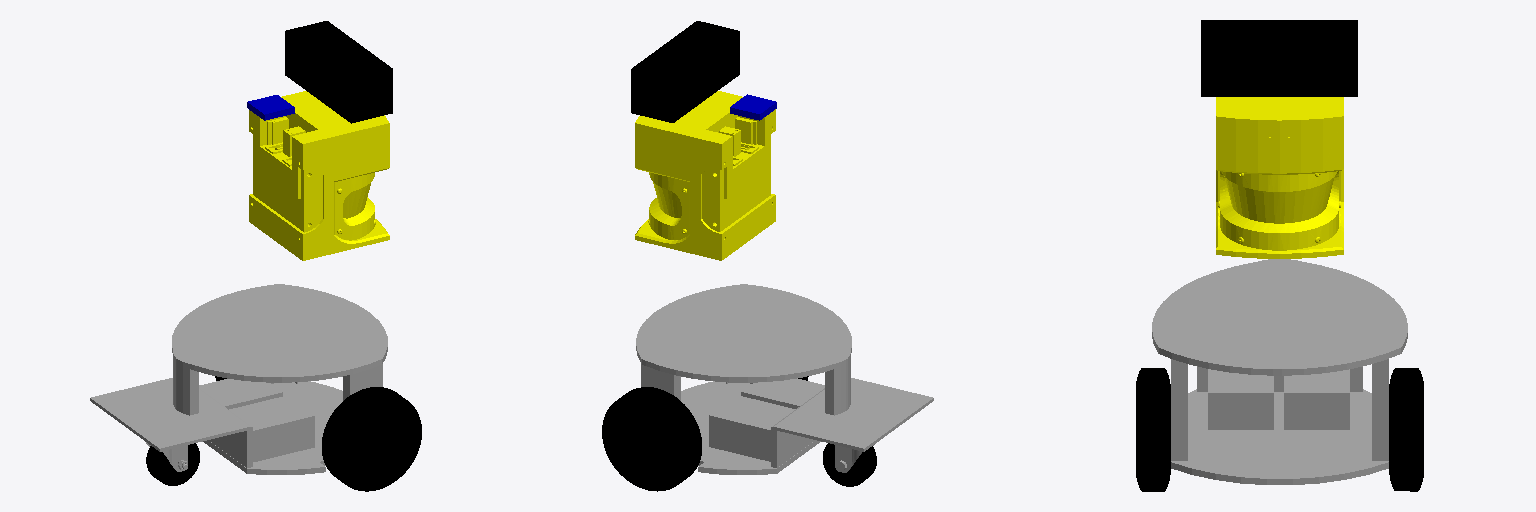
robot.urdf — tom_3d:
<?xml version="1.0" ?>
<!-- =================================================================================== -->
<!-- |    This document was autogenerated by xacro from tom_3d.urdf.xacro              | -->
<!-- |    EDITING THIS FILE BY HAND IS NOT RECOMMENDED                                 | -->
<!-- =================================================================================== -->
<robot name="tom_3d" xmlns:xacro="http://www.ros.org/wiki/xacro">
  <!--GAZEBO REFERENCES -->
  <gazebo>
    <plugin filename="libgazebo_ros_control.so" name="gazebo_ros_control">
      <robotNamespace>/tom_3d</robotNamespace>
      <robotParam>/robot_description</robotParam>
      <robotSimType>gazebo_ros_control/DefaultRobotHWSim</robotSimType>
    </plugin>
  </gazebo>
  <gazebo reference="base_link">
    <material value="Gazebo/Grey"/>
  </gazebo>
  <gazebo reference="left_wheel_link">
    <material value="Gazebo/Black"/>
  </gazebo>
  <gazebo reference="right_wheel_link">
    <gravity>true</gravity>
    <self_collide>false</self_collide>
    <material value="Gazebo/Black"/>
  </gazebo>
  <gazebo reference="caster_frame_link">
    <mu1>0.0</mu1>
    <mu2>0.0</mu2>
    <kp>1000000.0</kp>
    <kd>100.0</kd>
    <minDepth>0.001</minDepth>
    <maxVel>1.0</maxVel>
    <material value="Gazebo/Grey"/>
  </gazebo>
  <gazebo reference="caster_wheel_link">
    <mu1>0.0</mu1>
    <mu2>0.0</mu2>
    <kp>1000000.0</kp>
    <kd>100.0</kd>
    <minDepth>0.001</minDepth>
    <maxVel>1.0</maxVel>
    <material value="Gazebo/Black"/>
  </gazebo>
  <gazebo reference="sick_pls_link">
    <material value="Gazebo/Yellow"/>
    <sensor name="sick_pls_sensor" type="ray">
      <pose>0 0 0 0 0 0</pose>
      <visualize>true</visualize>
      <update_rate>40</update_rate>
      <ray>
        <scan>
          <horizontal>
            <samples>720</samples>
            <resolution>1</resolution>
            <min_angle>-1.57</min_angle>
            <max_angle>1.57</max_angle>
          </horizontal>
        </scan>
        <range>
          <min>0.10</min>
          <max>30.0</max>
          <resolution>0.05</resolution>
        </range>
        <noise>
          <type>gaussian</type>
          <mean>0.0</mean>
          <stddev>0.01</stddev>
        </noise>
      </ray>
      <plugin filename="libgazebo_ros_laser.so" name="sick_pls">
        <topicName>sick_pls/scan</topicName>
        <frameName>sick_pls_link</frameName>
      </plugin>
    </sensor>
  </gazebo>
  <gazebo>
    <plugin filename="libgazebo_ros_diff_drive.so" name="differential_drive_controller">
      <robotNamespace>/</robotNamespace>
      <alwaysOn>true</alwaysOn>
      <updateRate>100.0</updateRate>
      <leftJoint>left_wheel_joint</leftJoint>
      <rightJoint>right_wheel_joint</rightJoint>
      <wheelTorque>20</wheelTorque>
      <legacyMode>false</legacyMode>
      <wheelSeparation>0.3068</wheelSeparation>
      <wheelDiameter>0.15</wheelDiameter>
      <torque>20</torque>
      <commandTopic>/cmd_vel</commandTopic>
      <odometryTopic>/odom</odometryTopic>
      <odometryFrame>/odom</odometryFrame>
      <robotBaseFrame>/base_link</robotBaseFrame>
      <rosDebugLevel>na</rosDebugLevel>
      <rosDebugLevel>false</rosDebugLevel>
      <rosDebugLevel>Debug</rosDebugLevel>
      <publishWheelTF>true</publishWheelTF>
      <publishWheelJointState>true</publishWheelJointState>
      <wheelAcceleration>0.4</wheelAcceleration>
      <publishTf>1</publishTf>
      <odometrySource>encoder</odometrySource>
    </plugin>
  </gazebo>
  <transmission name="left_wheel_trans">
    <type>transmission_interface/SimpleTransmission</type>
    <robotNamespace>tom_3d</robotNamespace>
    <joint name="left_wheel_joint">
      <hardwareInterface>EffortJointInterface</hardwareInterface>
    </joint>
    <actuator name="right_wheel_motor">
      <mechanicalReduction>1</mechanicalReduction>
    </actuator>
  </transmission>
  <transmission name="left_wheel_trans">
    <type>transmission_interface/SimpleTransmission</type>
    <robotNamespace>tom_3d</robotNamespace>
    <joint name="right_wheel_joint">
      <hardwareInterface>EffortJointInterface</hardwareInterface>
    </joint>
    <actuator name="right_wheel_motor">
      <mechanicalReduction>1</mechanicalReduction>
    </actuator>
  </transmission>
  <!-- MATERIALS -->
  <material name="tom_3d/Black">
    <color rgba="0.0 0.0 0.0 1.0"/>
  </material>
  <material name="tom_3d/Blue">
    <color rgba="0.0 0.0 0.8 1.0"/>
  </material>
  <material name="tom_3d/Green">
    <color rgba="0.0 0.8 0.0 1.0"/>
  </material>
  <material name="tom_3d/Grey">
    <color rgba="0.7 0.7 0.7 1.0"/>
  </material>
  <material name="tom_3d/Grey2">
    <color rgba="0.9 0.9 0.9 1.0"/>
  </material>
  <material name="tom_3d/Red">
    <color rgba="0.8 0.0 0.0 1.0"/>
  </material>
  <material name="tom_3d/White">
    <color rgba="1.0 1.0 1.0 1.0"/>
  </material>
  <material name="tom_3d/Yellow">
    <color rgba="1.0 1.0 0 10"/>
  </material>
  <!-- BODY -->
  <!-- WHEELS -->
  <!-- WHEELS -->
  <!-- SENSORS -->
  <!-- CASTER WHEELS -->
  <!-- IMU -->
  <!-- STEREO CAMERA -->
  <!-- Base Macro-->
  <link name="base_link">
    <inertial>
      <origin rpy="0 0 0" xyz="-0.17709 -0.00065294 0.16037"/>
      <mass value="12.377"/>
      <inertia ixx="0.5769" ixy="0.0002763" ixz="-0.041954" iyy="0.58042" iyz="0.0002722" izz="0.1142"/>
    </inertial>
    <visual>
      <origin rpy="0 0 0" xyz="0.08339 0 0.0395"/>
      <geometry>
        <mesh filename="package://tom_3d_simulation/urdf/meshes/base_link.STL"/>
      </geometry>
      <material name="tom_3d/Grey"/>
    </visual>
    <collision>
      <origin rpy="0 0 0" xyz="0 0 0.0395"/>
      <geometry>
        <!--cylinder radius="0.17" length = "0.7" /-->
        <mesh filename="package://tom_3d_simulation/urdf/meshes/base_link.STL"/>
      </geometry>
    </collision>
  </link>
  <!-- Wheel Macro -->
  <joint name="left_wheel_joint" type="continuous">
    <origin rpy="-4.2563E-44 0 0" xyz="-0.00076 0.1534 0.075"/>
    <axis xyz="0 1 0"/>
    <parent link="base_link"/>
    <child link="left_wheel_link"/>
    <limit effort="30.0" velocity="1.0"/>
    <joint_properties damping="1.0" friction="0.2"/>
  </joint>
  <link name="left_wheel_link" type="wheel">
    <inertial>
      <origin rpy="0 0 0" xyz="-7.2741E-08 7.9842E-09 7.1084E-08"/>
      <mass value="0.47973"/>
      <inertia ixx="0.0008385" ixy="3.881E-10" ixz="-3.4742E-08" iyy="0.0015698" iyz="-1.1674E-09" izz="0.00083856"/>
    </inertial>
    <visual>
      <origin rpy="0 0 0" xyz="0 0 0"/>
      <geometry>
        <mesh filename="package://tom_3d_simulation/urdf/meshes/left_wheel_Link.STL"/>
      </geometry>
      <material name="tom_3d/Black"/>
    </visual>
    <collision>
      <origin rpy="0 0 0" xyz="0 0 0"/>
      <geometry>
        <!--cylinder radius="0.075" length="0.042"/-->
        <mesh filename="package://tom_3d_simulation/urdf/meshes/left_wheel_Link.STL"/>
      </geometry>
    </collision>
  </link>
  <joint name="right_wheel_joint" type="continuous">
    <origin rpy="-4.2563E-44 0 0" xyz="-0.00076 -0.1534 0.075"/>
    <axis xyz="0 1 0"/>
    <parent link="base_link"/>
    <child link="right_wheel_link"/>
    <limit effort="30.0" velocity="1.0"/>
    <joint_properties damping="1.0" friction="0.2"/>
  </joint>
  <link name="right_wheel_link" type="wheel">
    <inertial>
      <origin rpy="0 0 0" xyz="7.2151E-08 -7.9842E-09 7.1683E-08"/>
      <mass value="0.47973"/>
      <inertia ixx="0.0008385" ixy="3.7844E-10" ixz="3.4244E-08" iyy="0.0015698" iyz="1.1706E-09" izz="0.00083856"/>
    </inertial>
    <visual>
      <origin rpy="0 0 0" xyz="0 0 0"/>
      <geometry>
        <mesh filename="package://tom_3d_simulation/urdf/meshes/right_wheel_Link.STL"/>
      </geometry>
      <material name="tom_3d/Black"/>
    </visual>
    <collision>
      <origin rpy="0 0 0" xyz="0 0 0"/>
      <geometry>
        <!--cylinder radius="0.075" length="0.042"/-->
        <mesh filename="package://tom_3d_simulation/urdf/meshes/right_wheel_Link.STL"/>
      </geometry>
    </collision>
  </link>
  <!-- Sensors-->
  <joint name="sick_pls_joint" type="fixed">
    <axis xyz="0 0 0"/>
    <origin rpy="-6.983E-15 -8.3333E-10 2.9167E-09" xyz="0.04839 -0.00057363 0.405"/>
    <parent link="base_link"/>
    <child link="sick_pls_link"/>
  </joint>
  <link name="sick_pls_link" type="laser">
    <inertial>
      <origin rpy="0 0 0" xyz="0.07464 2.9656E-09 0.0005964"/>
      <mass value="4.803"/>
      <inertia ixx="0.022714" ixy="-6.4301E-09" ixz="-0.0016489" iyy="0.022161" iyz="2.6112E-09" izz="0.016889"/>
    </inertial>
    <visual>
      <origin rpy="0 0 0" xyz="-0.12 0 0.03"/>
      <geometry>
        <mesh filename="package://tom_3d_simulation/urdf/meshes/sick_pls_Link.STL"/>
      </geometry>
      <material name="tom_3d/Yellow"/>
    </visual>
    <collision>
      <origin rpy="0 0 0" xyz="-0.12 0 0.03"/>
      <geometry>
        <mesh filename="package://tom_3d_simulation/urdf/meshes/sick_pls_Link.STL"/>
      </geometry>
    </collision>
  </link>
  <!-- Caster Wheel Macro -->
  <link name="caster_frame_link">
    <inertial>
      <origin rpy="0 0 0" xyz="-0.00055887 -0.028892 0.019123"/>
      <mass value="0.075875"/>
      <inertia ixx="7.155E-05" ixy="-1.5111E-06" ixz="6.2761E-07" iyy="5.4831E-05" iyz="1.9534E-05" izz="7.4518E-05"/>
    </inertial>
    <visual>
      <origin rpy="0 0 0" xyz="0 0 0"/>
      <geometry>
        <mesh filename="package://tom_3d_simulation/urdf/meshes/caster_frame_Link.STL"/>
      </geometry>
      <material name="tom_3d/Grey"/>
    </visual>
    <collision>
      <origin rpy="0 0 0" xyz="0 0 0"/>
      <geometry>
        <mesh filename="package://tom_3d_simulation/urdf/meshes/caster_frame_Link.STL"/>
      </geometry>
    </collision>
  </link>
  <joint name="caster_frame_joint" type="continuous">
    <origin rpy="1.5708 6.9774E-15 1.6109" xyz="-0.27411 0 0.102114"/>
    <axis xyz="0 1 0"/>
    <parent link="base_link"/>
    <child link="caster_frame_link"/>
  </joint>
  <link name="caster_wheel_link" type="wheel">
    <inertial>
      <origin rpy="0 0 0" xyz="7.2411E-08 -1.7197E-07 3.4401E-08"/>
      <mass value="0.15248"/>
      <inertia ixx="6.8521E-05" ixy="8.1003E-11" ixz="2.3672E-10" iyy="0.00010566" iyz="-7.8553E-11" izz="6.8522E-05"/>
    </inertial>
    <visual>
      <origin rpy="0 0 0" xyz="0 0 0"/>
      <geometry>
        <mesh filename="package://tom_3d_simulation/urdf/meshes/caster_wheel_Link.STL"/>
      </geometry>
      <material name="tom_3d/Black"/>
    </visual>
    <collision>
      <origin rpy="0 0 0" xyz="0 0 0"/>
      <geometry>
        <mesh filename="package://tom_3d_simulation/urdf/meshes/caster_wheel_Link.STL"/>
      </geometry>
    </collision>
  </link>
  <joint name="caster_wheel_joint" type="continuous">
    <origin rpy="0 0 1.5708" xyz="0 -0.064604 0.034"/>
    <axis xyz="0 -1 0"/>
    <parent link="caster_frame_link"/>
    <child link="caster_wheel_link"/>
  </joint>
  <!-- IMU -->
  <joint name="imu_joint" type="fixed">
    <axis xyz="0 0 0"/>
    <origin xyz="-0.07961 -0.00057363 0.556"/>
    <parent link="base_link"/>
    <child link="imu_link"/>
  </joint>
  <link name="imu_link">
    <inertial>
      <mass value="0.001"/>
      <origin rpy="0 0 0" xyz="0 0 0"/>
      <inertia ixx="0.0001" ixy="0" ixz="0" iyy="0.000001" iyz="0" izz="0.0001"/>
    </inertial>
    <visual>
      <origin rpy="0 0 0" xyz="0 0 0"/>
      <geometry>
        <box size="0.05 0.05 0.01"/>
      </geometry>
      <material name="tom_3d/Blue"/>
    </visual>
    <collision>
      <origin rpy="0 0 0" xyz="0 0 0"/>
      <geometry>
        <box size="0.05 0.05 0.01"/>
      </geometry>
    </collision>
  </link>
  <!-- STEREO CAMERA -->
  <joint name="camera_joint" type="fixed">
    <axis xyz="0 0 0"/>
    <origin xyz="0.03339 -0.00057363 0.586"/>
    <parent link="base_link"/>
    <child link="camera_link"/>
  </joint>
  <link name="camera_link">
    <inertial>
      <mass value="0.001"/>
      <origin rpy="0 0 0" xyz="0 0 0"/>
      <inertia ixx="0.0001" ixy="0" ixz="0" iyy="0.000001" iyz="0" izz="0.0001"/>
    </inertial>
    <visual>
      <origin rpy="0 0 0" xyz="0 0 0"/>
      <geometry>
        <box size="0.07 0.19 0.07"/>
      </geometry>
      <material name="tom_3d/Black"/>
    </visual>
    <collision>
      <origin rpy="0 0 0" xyz="0 0 0"/>
      <geometry>
        <box size="0.07 0.211 0.07"/>
      </geometry>
    </collision>
  </link>
</robot>

--- Render facts (derived) ---
3 views of the same robot in one strip: view 1: azimuth 30°, elevation 25°; view 2: azimuth 150°, elevation 25°; view 3: azimuth 270°, elevation 25° (orthographic).
Robot: tom_3d — 8 links, 7 joints (4 continuous, 3 fixed); root link base_link; default pose: all joints at 0.
Links seen in each view (by area): view 1: base_link, sick_pls_link, right_wheel_link, camera_link, caster_wheel_link, imu_link; view 2: base_link, sick_pls_link, left_wheel_link, camera_link, caster_wheel_link, imu_link; view 3: base_link, sick_pls_link, camera_link, right_wheel_link, left_wheel_link.
Link boxes in pixels (x1,y1,x2,y2): base_link: (90, 284, 387, 474); sick_pls_link: (249, 91, 389, 260); right_wheel_link: (322, 387, 421, 491); camera_link: (285, 21, 392, 123); caster_wheel_link: (146, 443, 199, 485); imu_link: (247, 95, 294, 120); base_link: (636, 284, 933, 474); sick_pls_link: (635, 91, 775, 260); left_wheel_link: (602, 387, 701, 491); camera_link: (631, 21, 739, 122); caster_wheel_link: (823, 443, 876, 486); imu_link: (730, 94, 776, 120); base_link: (1152, 259, 1407, 484); sick_pls_link: (1216, 97, 1343, 258); camera_link: (1201, 20, 1357, 96); right_wheel_link: (1136, 368, 1170, 491); left_wheel_link: (1389, 368, 1423, 491).
Size in the robot's own frame: 0.4055 by 0.3488 by 0.621 metres.
6 mesh visuals loaded from 6 distinct referenced files (6 binary STL).
